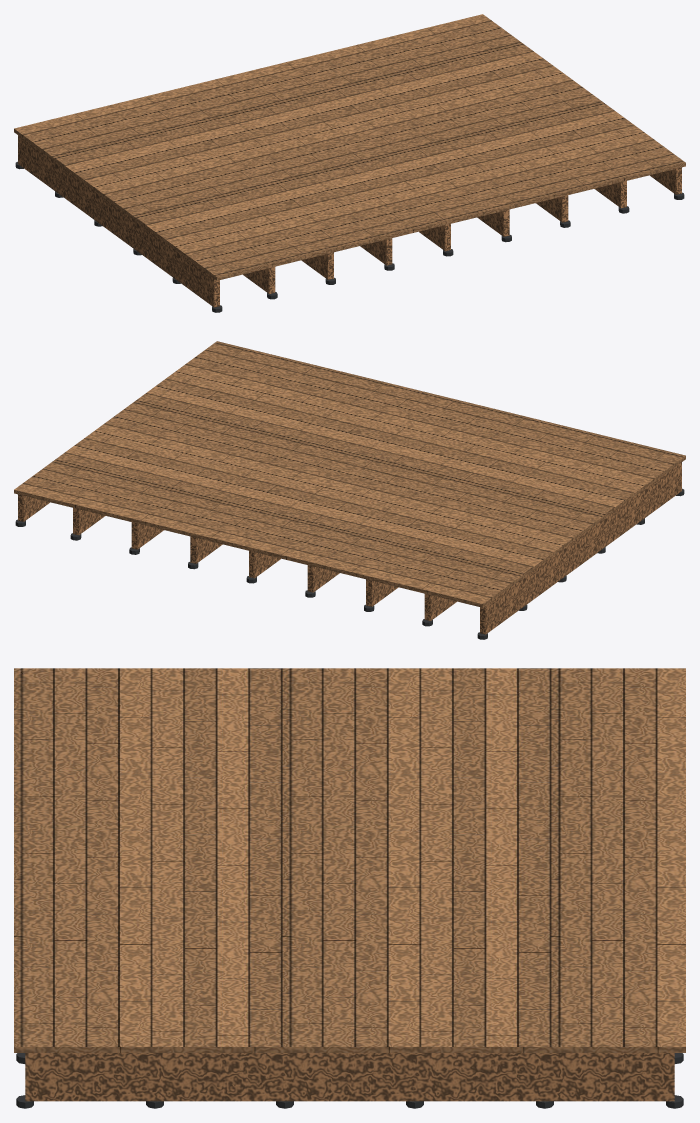
The picture shows the model from 3 angles, top to bottom: view 1: azimuth 30°, elevation 25°; view 2: azimuth 150°, elevation 25°; view 3: azimuth 270°, elevation 25°; orthographic projection. The views are drawn at different scales.
Visible parts, largest first — view 1: recreation.platform (×3); view 2: recreation.platform (×3); view 3: recreation.platform (×3).
Part boxes in pixels (left/top/right/bottom): recreation.platform (×3): left=14, top=14, right=685, bottom=312; recreation.platform (×3): left=14, top=341, right=685, bottom=639; recreation.platform (×3): left=14, top=668, right=685, bottom=1108.
Bounding box in the file's own units: 4.02 × 3 × 0.3.
3 materials, 2 textured.
